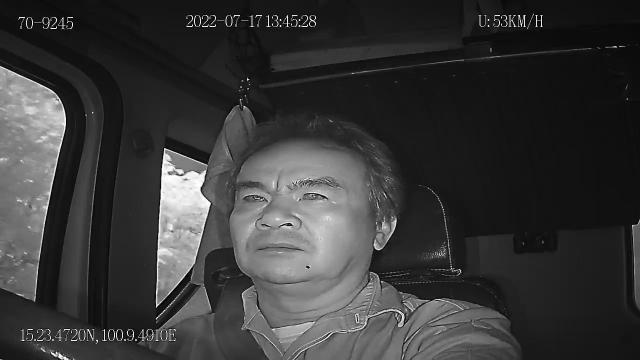SafeDriving: (294, 183, 336, 207), (234, 183, 272, 209)
Seatbelt: (212, 276, 270, 360)
